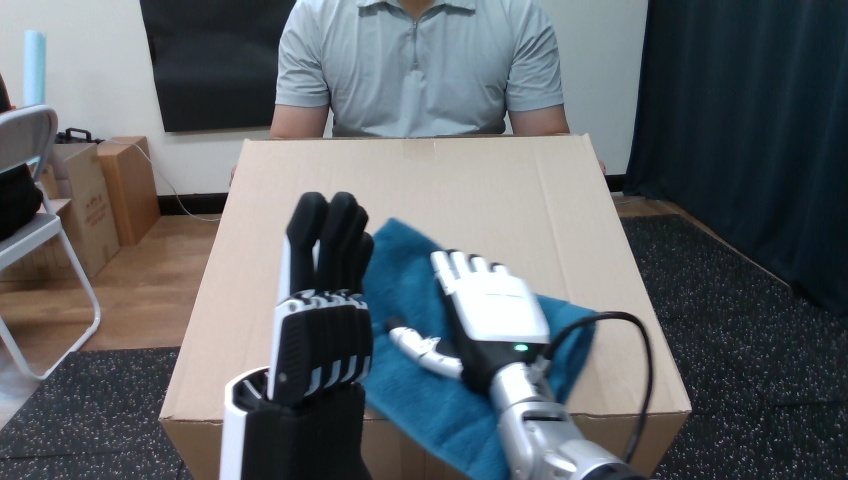left robot hand: (388, 250, 652, 479), (220, 192, 373, 478), (546, 318, 647, 462)
